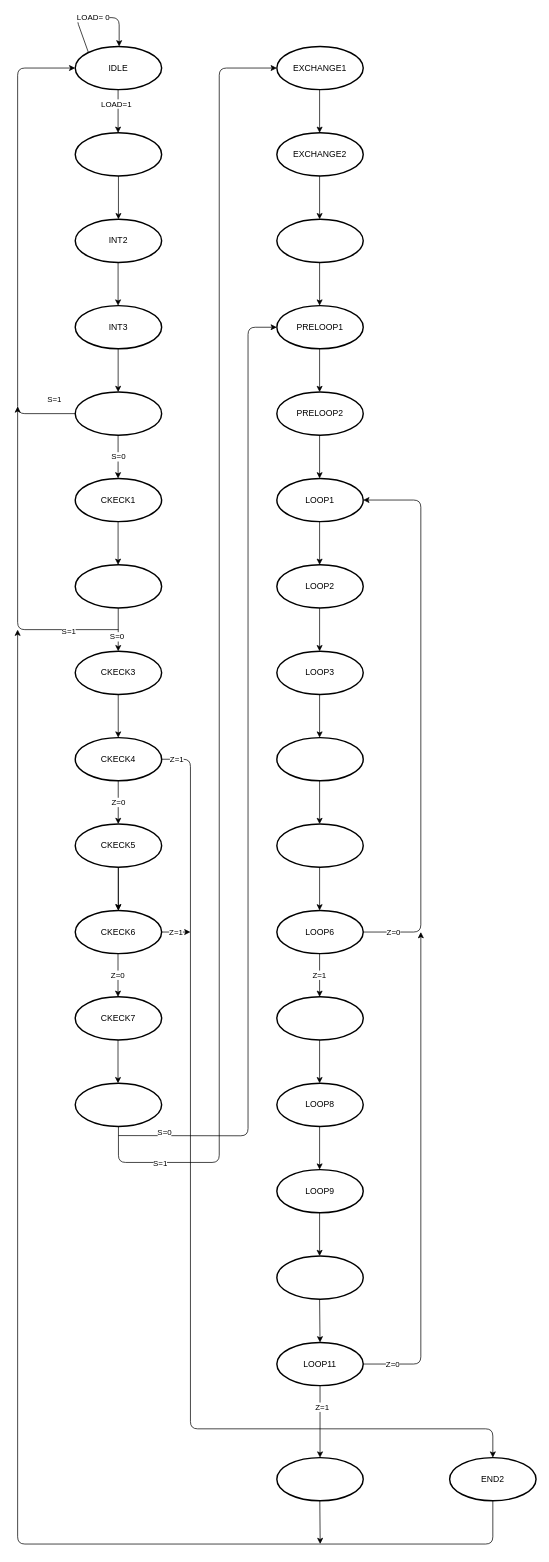
Image size: 549x1562. Some labels were removed from this diagram. Here are the shapes that lost their labels. From the top down, the centre of each, then its label:
point (118, 154): INT1
point (320, 240): EXCHANGE3
point (118, 413): INT4
point (118, 586): CKECK2
point (320, 759): LOOP4
point (320, 845): LOOP5
point (320, 1018): LOOP7
point (118, 1104): CKECK8
point (320, 1277): LOOP10
point (320, 1479): END1
